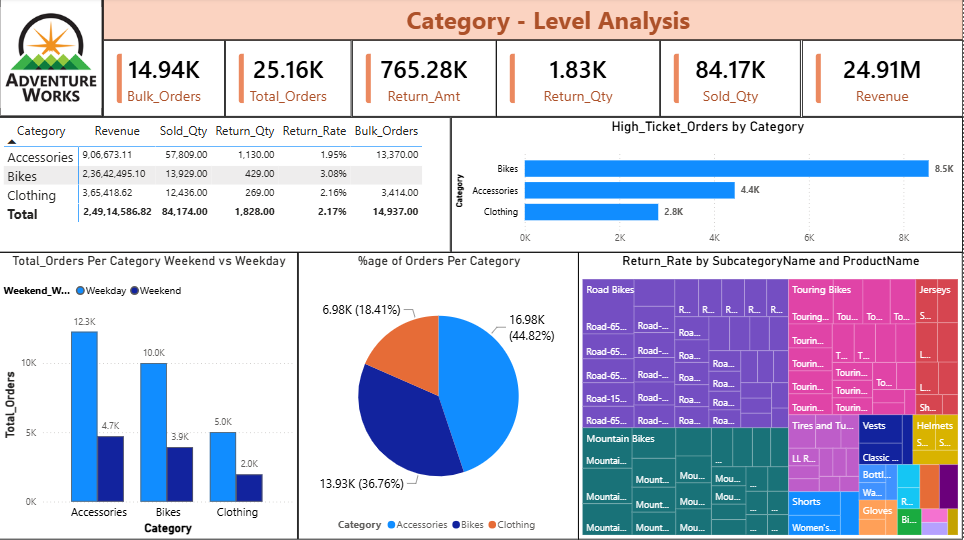

This screenshot's page, from the dashboard's own definition file:
{"tool":"powerbi","page":{"name":"Category analysis","canvas":[1280,720],"ordinal":0},"visuals":[{"type":"image","box":[0,0,137.6,158],"z":0},{"type":"cardVisual","fields":{"Data":["Sales.Revenue"]},"box":[1066.8,55.6,213.7,102.4],"z":1000},{"type":"cardVisual","fields":{"Data":["Sales.Sold_Qty"]},"box":[878,55.6,187.3,102.4],"z":2000},{"type":"pivotTable","fields":{"Rows":["Categories.CategoryName"],"Values":["Sales.Revenue","Sales.Sold_Qty","Returns.Return_Qty","Returns.Return_Rate","Sales.Bulk_Orders"]},"box":[0,158,600,180],"z":3000},{"type":"cardVisual","fields":{"Data":["Returns.Return_Qty"]},"box":[660,55.6,218,102.4],"z":4000},{"type":"treemap","fields":{"Group":["Subcategories.SubcategoryName"],"Details":["Products.ProductName"],"Values":["Returns.Return_Rate"]},"box":[769.8,338,510.7,382],"z":5000},{"type":"cardVisual","fields":{"Data":["Returns.Return_Amt"]},"box":[468.3,55.6,191.7,102.4],"z":6000},{"type":"cardVisual","fields":{"Data":["Sales.Total_Orders"]},"box":[300,55.6,168.3,102.4],"z":7000},{"type":"cardVisual","fields":{"Data":["Sales.Bulk_Orders"]},"box":[137.6,55.6,162.4,102.4],"z":8000},{"type":"clusteredColumnChart","title":"Total_Orders Per Category Weekend vs Weekday","fields":{"Category":["Categories.CategoryName"],"Y":["Sales.Total_Orders"],"Series":["Sales.Weekend_Weekday"]},"box":[0,338,396.6,382],"z":9000},{"type":"pieChart","title":"%age of Orders Per Category","fields":{"Category":["Categories.CategoryName"],"Y":["Sales.Total_Orders"]},"box":[396.6,338,373.2,382],"z":10000},{"type":"clusteredBarChart","fields":{"Y":["Sales.Total High Ticket Orders"],"Category":["Categories.CategoryName"]},"box":[600,158,680.5,180],"z":11000},{"type":"textbox","box":[137.6,0,1142.9,55.6],"z":12000}]}

Visuals, with their boxes in screenshot pixels (x1, y1, x2, y2), scaled from the page's 1280x720 canvas onto the 964x540 screenshot:
image: [0,0,104,118]
cardVisual - Sales.Revenue: [803,42,963,118]
cardVisual - Sales.Sold_Qty: [661,42,802,118]
pivotTable - Categories.CategoryName x Sales.Revenue: [0,118,452,254]
cardVisual - Returns.Return_Qty: [497,42,661,118]
treemap - Subcategories.SubcategoryName x Products.ProductName: [580,254,963,539]
cardVisual - Returns.Return_Amt: [353,42,497,118]
cardVisual - Sales.Total_Orders: [226,42,353,118]
cardVisual - Sales.Bulk_Orders: [104,42,226,118]
"Total_Orders Per Category Weekend vs Weekday" clusteredColumnChart: [0,254,299,539]
"%age of Orders Per Category" pieChart: [299,254,580,539]
clusteredBarChart - Sales.Total High Ticket Orders x Categories.CategoryName: [452,118,963,254]
textbox: [104,0,963,42]
